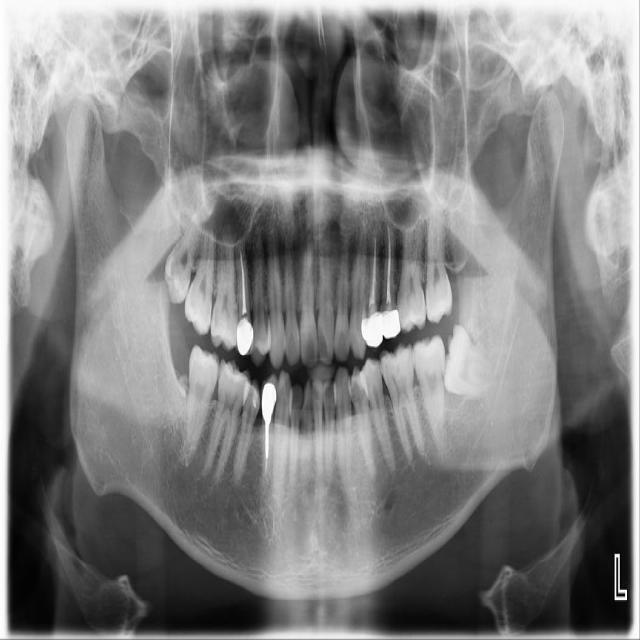Filling: (361, 305, 383, 348), (260, 373, 278, 424), (379, 302, 400, 339), (235, 316, 254, 355)
Root Canal Treatment: (240, 251, 247, 316), (385, 226, 391, 299), (370, 238, 376, 300), (264, 422, 270, 470)
impacted tooth: (443, 325, 497, 397), (166, 211, 202, 304)
